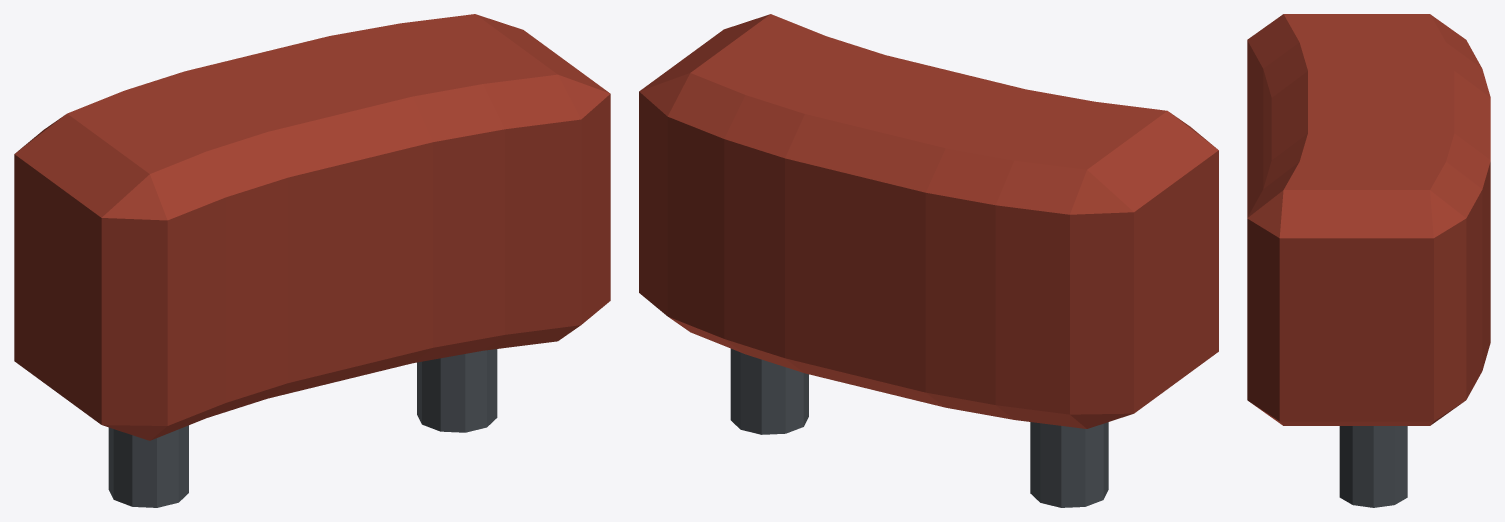
The model's file is Personal_Vehicle_02_Head_Rest_Red.fbx.
3 renders of one model, left to right at view 1: azimuth 30°, elevation 25°; view 2: azimuth 150°, elevation 25°; view 3: azimuth 270°, elevation 25°, orthographic. The views are drawn at different scales.
Visible parts, largest first — view 1: Personal_Vehicle_02_Head_Rest_Red; view 2: Personal_Vehicle_02_Head_Rest_Red; view 3: Personal_Vehicle_02_Head_Rest_Red.
Part boxes in pixels (box(x1,y1,x2,y2)): Personal_Vehicle_02_Head_Rest_Red: box(14, 14, 610, 507); Personal_Vehicle_02_Head_Rest_Red: box(639, 14, 1218, 507); Personal_Vehicle_02_Head_Rest_Red: box(1247, 14, 1490, 507).
Size of the model in its own units: 28.13 by 19.35 by 13.18.
Materials: 1 (1 with a texture image).
